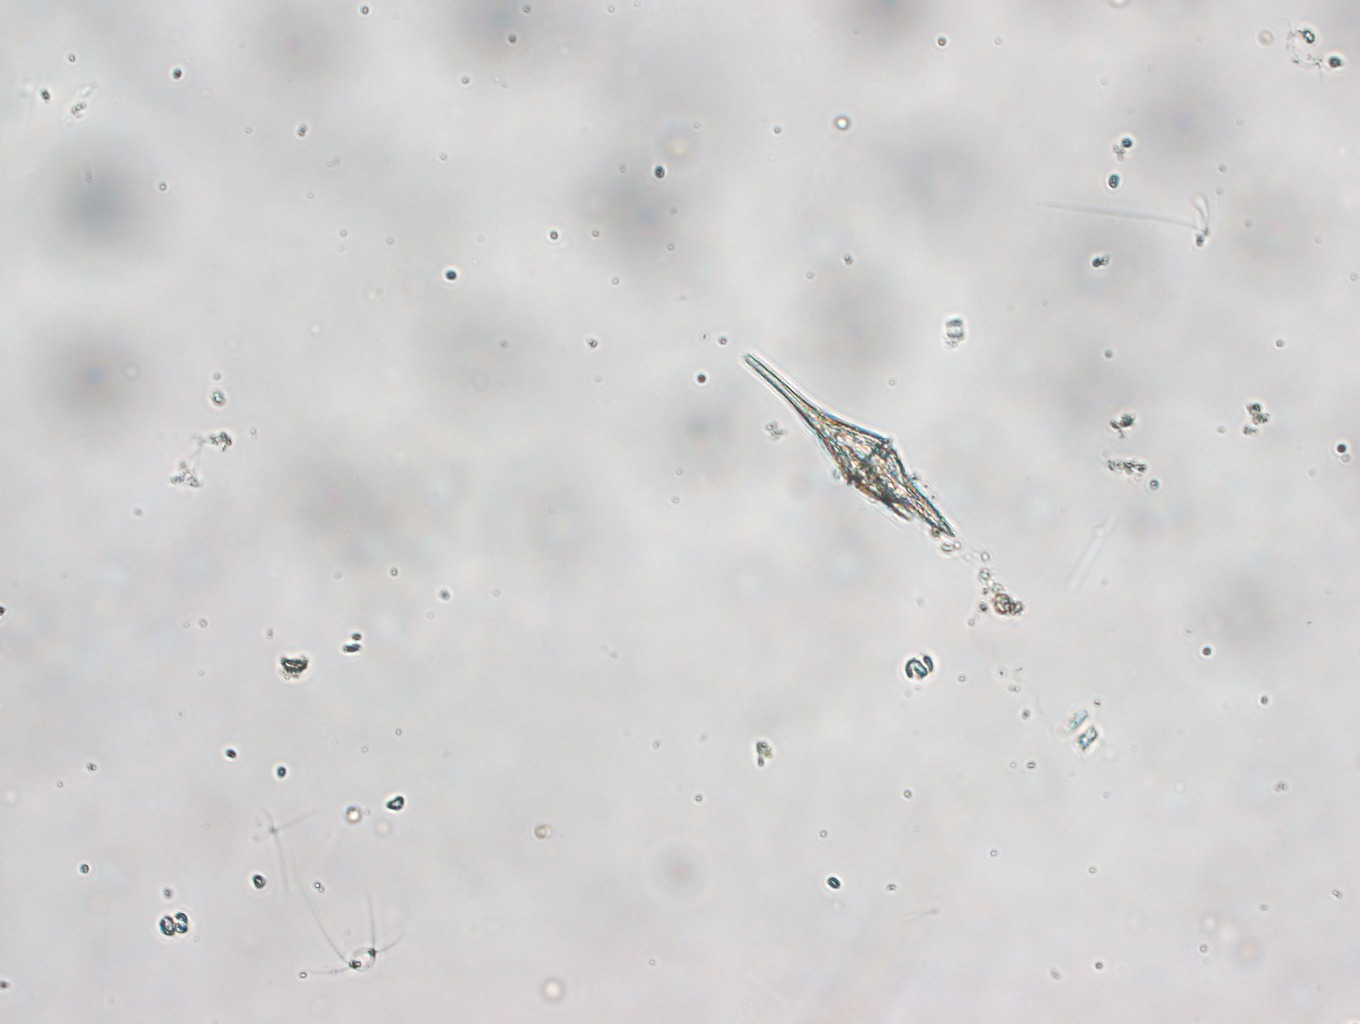ceratium furca: (741, 346, 957, 543)
